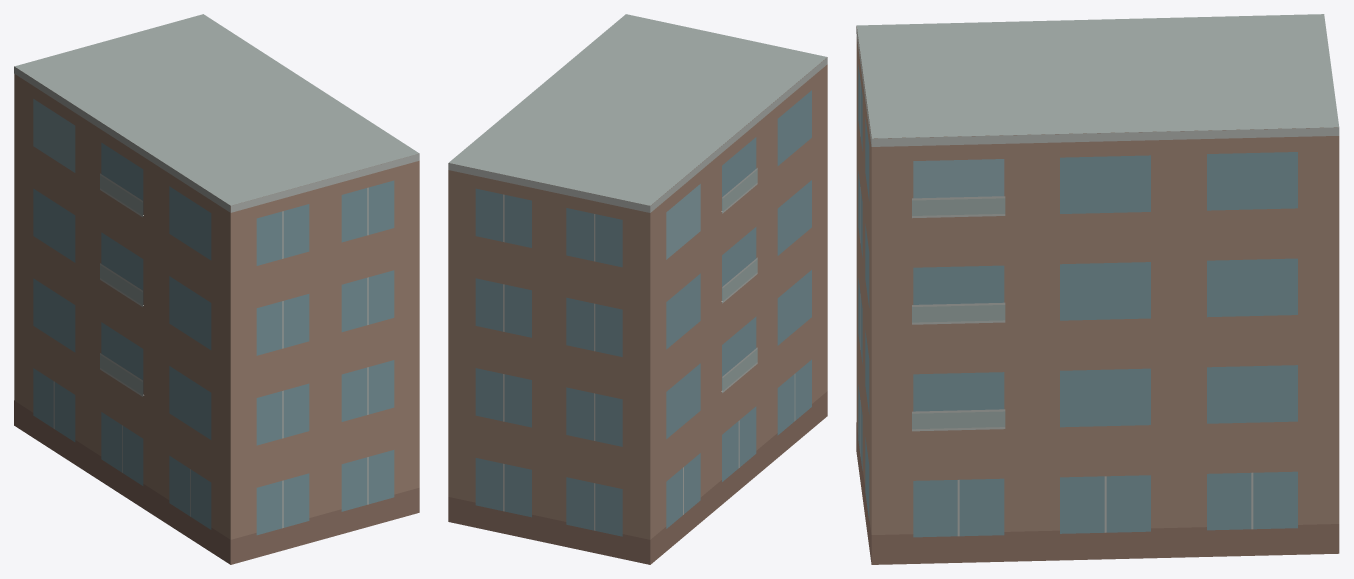
Rendered from survey-upis-32704207.glb.
3 renders of one model, left to right at view 1: azimuth 30°, elevation 25°; view 2: azimuth 150°, elevation 25°; view 3: azimuth 270°, elevation 25°, orthographic. The views are drawn at different scales.
Visible parts, largest first — view 1: survey-upis-32704207.tmp; view 2: survey-upis-32704207.tmp; view 3: survey-upis-32704207.tmp.
Part boxes in pixels (x1,y1,x2,y2): survey-upis-32704207.tmp: [14, 14, 419, 564]; survey-upis-32704207.tmp: [448, 14, 827, 564]; survey-upis-32704207.tmp: [856, 14, 1339, 564].
Size of the model in its own units: 7.65 by 12.2 by 12.53.
